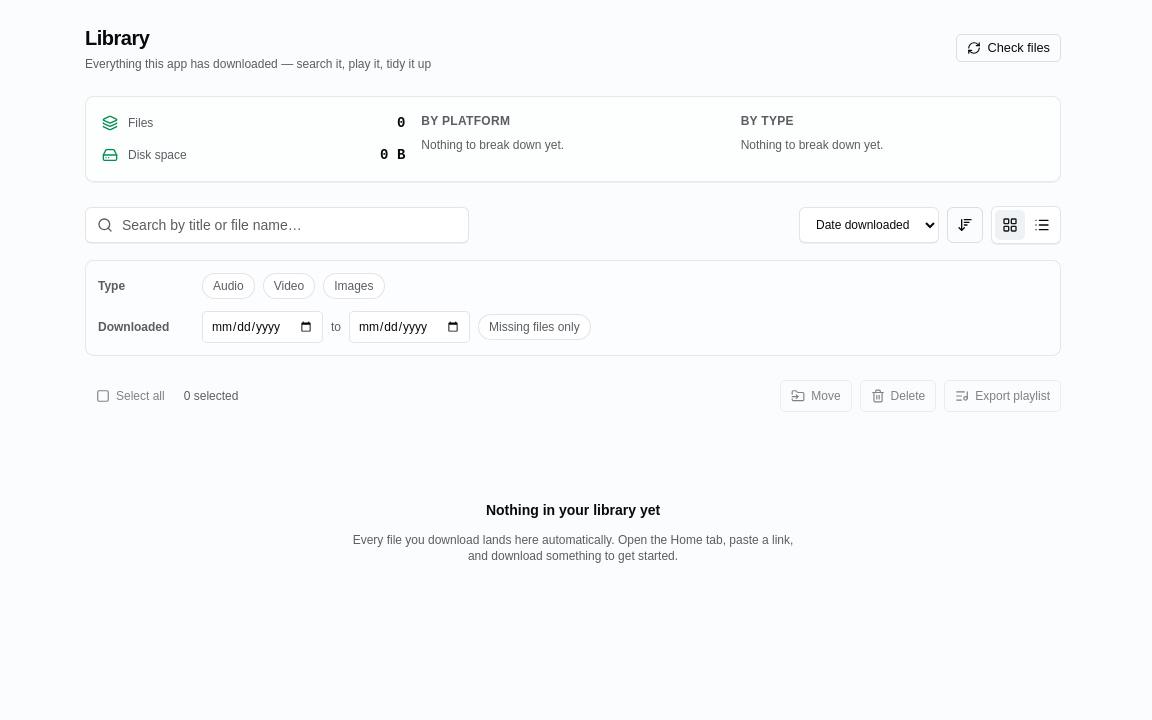
Library — empty states (FR-311) › clears the filters from the no-results state and asks again unfiltered
The image size is (1152, 720).
Click the button with test id "library-filter-media-type-video" at coordinates (289, 286), box [263,273,315,299]
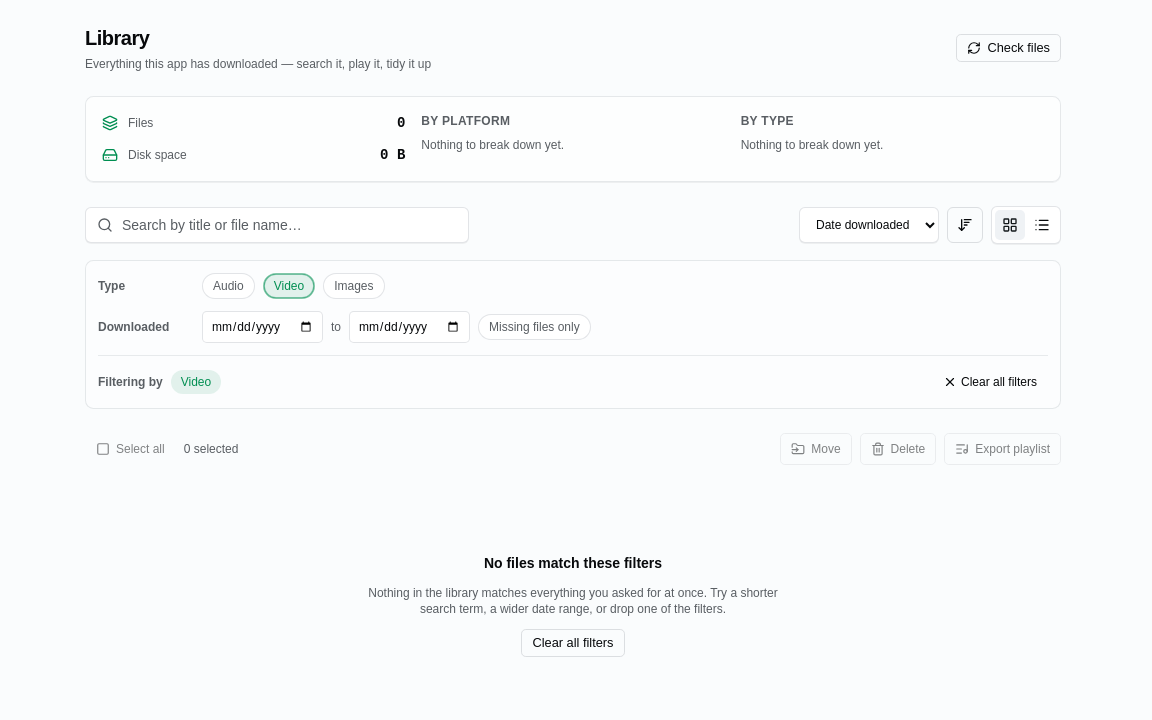
expect the element with test id "library-empty-no-results" is shown: met, box [368,555,778,657]
Click the button with test id "library-clear-filters-empty" at coordinates (573, 643), box [522,629,625,657]
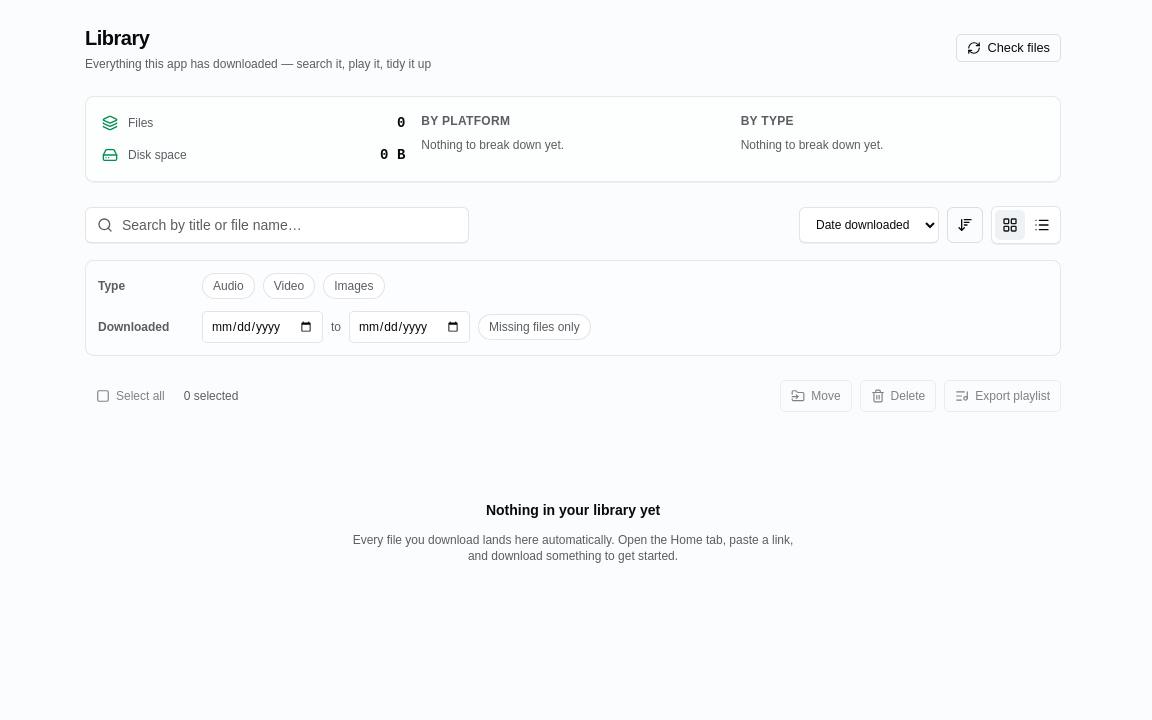
expect the element with test id "library-empty-nothing-downloaded" is shown: met, box [353,502,793,563]
